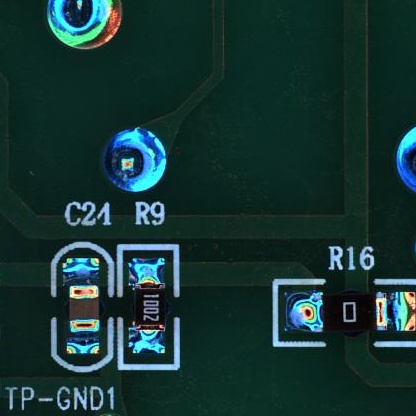spot: (101, 126, 168, 194), (46, 1, 123, 50)
